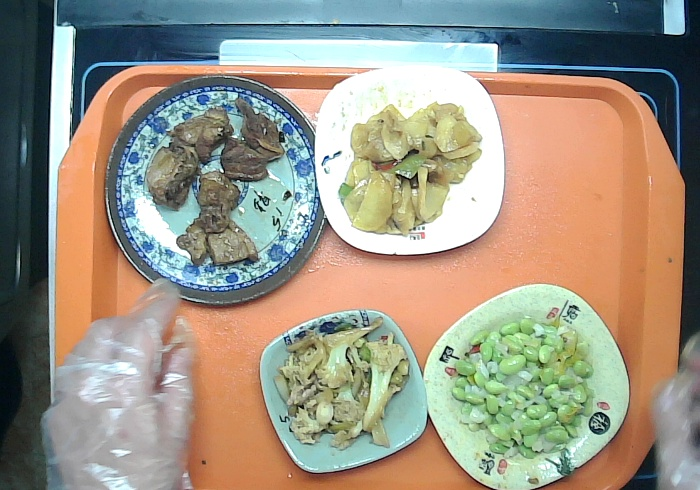NLDX-Bai_Se_Xiao_Fang_Die: (312, 57, 504, 261)
NLDX-Fu_Zi_Fang_Die: (422, 281, 637, 490)
NLDX-Qing_Hua_Xiao_Fang_Die: (261, 299, 435, 471)
NLDX-Qing_Hua_Yuan_Die: (108, 76, 344, 311)
